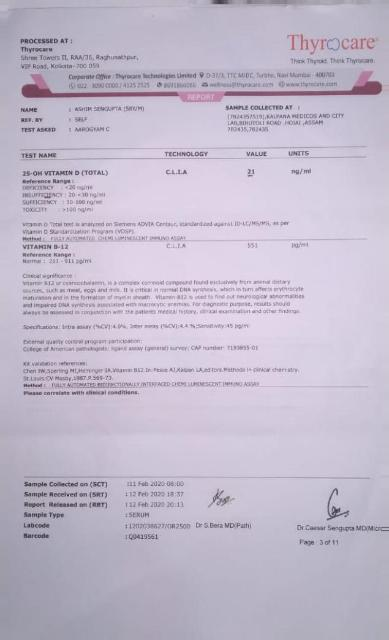Clinical_Conditions: (21, 270, 305, 321)
Name: (75, 106, 147, 113)
Ref_By: (74, 117, 91, 123)
Technology: (164, 166, 192, 179), (165, 242, 192, 252)
Test_Asked: (74, 125, 112, 133)
Test_Name: (21, 168, 111, 218), (21, 242, 96, 266)
Unit: (287, 166, 315, 179), (290, 241, 313, 251)
Value: (245, 166, 259, 179), (247, 240, 262, 252)
